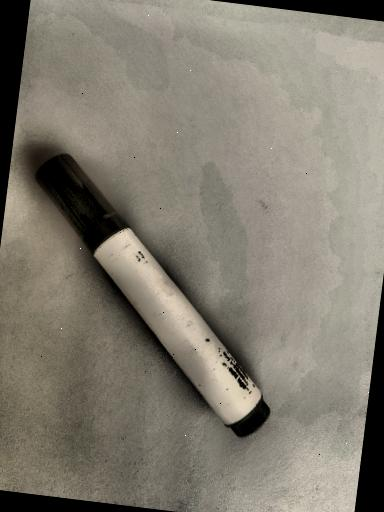marcador negro: (36, 154, 269, 437)
